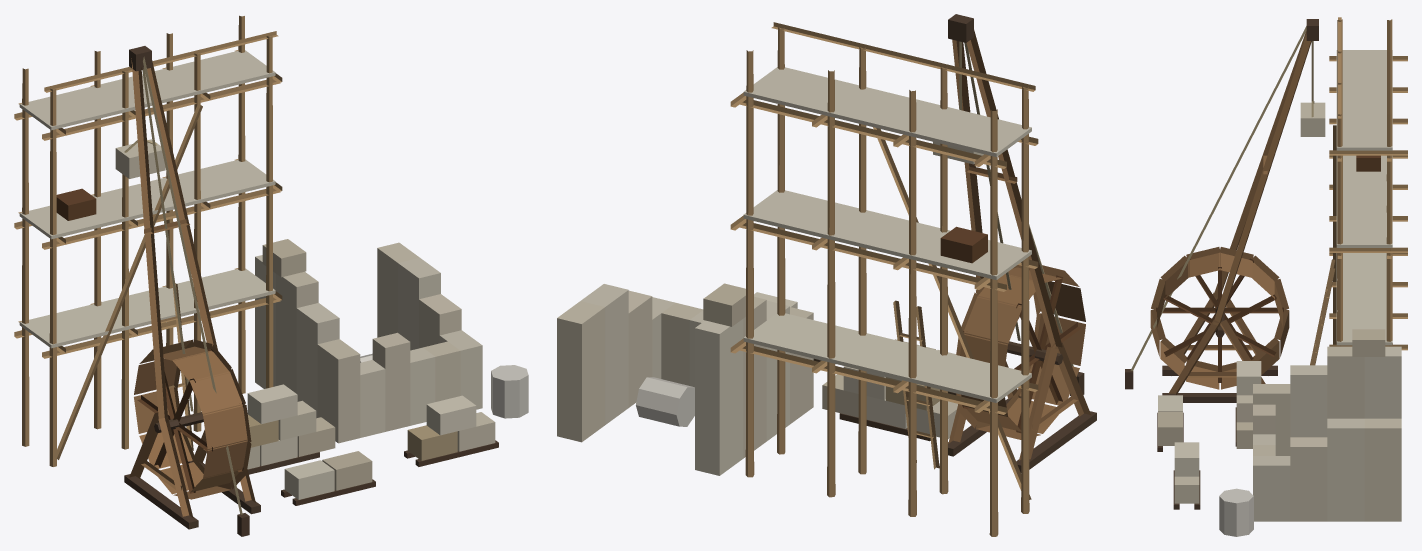
The model's file is office-works.glb.
3 views of the same model, side by side, from view 1: azimuth 30°, elevation 25°; view 2: azimuth 150°, elevation 25°; view 3: azimuth 270°, elevation 25° (orthographic). The views are drawn at different scales.
Visible parts, largest first — view 1: works_body, works_wheel, works_block; view 2: works_body, works_wheel; view 3: works_body, works_wheel, works_block.
Part boxes in pixels (x1=…): works_body: x1=14, y1=15, x2=528, y2=536; works_wheel: x1=134, y1=339, x2=251, y2=499; works_block: x1=115, y1=139, x2=165, y2=178; works_body: x1=557, y1=14, x2=1096, y2=536; works_wheel: x1=956, y1=265, x2=1085, y2=439; works_body: x1=1125, y1=17, x2=1407, y2=536; works_wheel: x1=1150, y1=247, x2=1289, y2=389; works_block: x1=1300, y1=41, x2=1325, y2=136.
Bounding box in the file's own units: 10.62 × 9.79 × 6.85.
